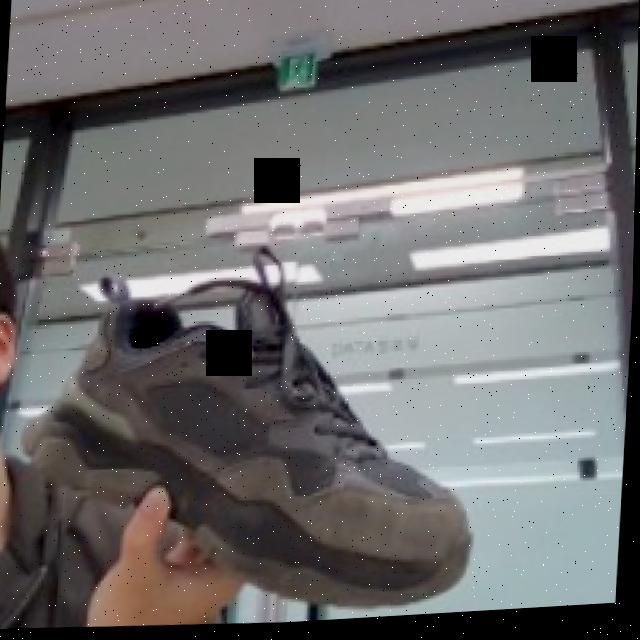shoes: (0, 249, 481, 609)
